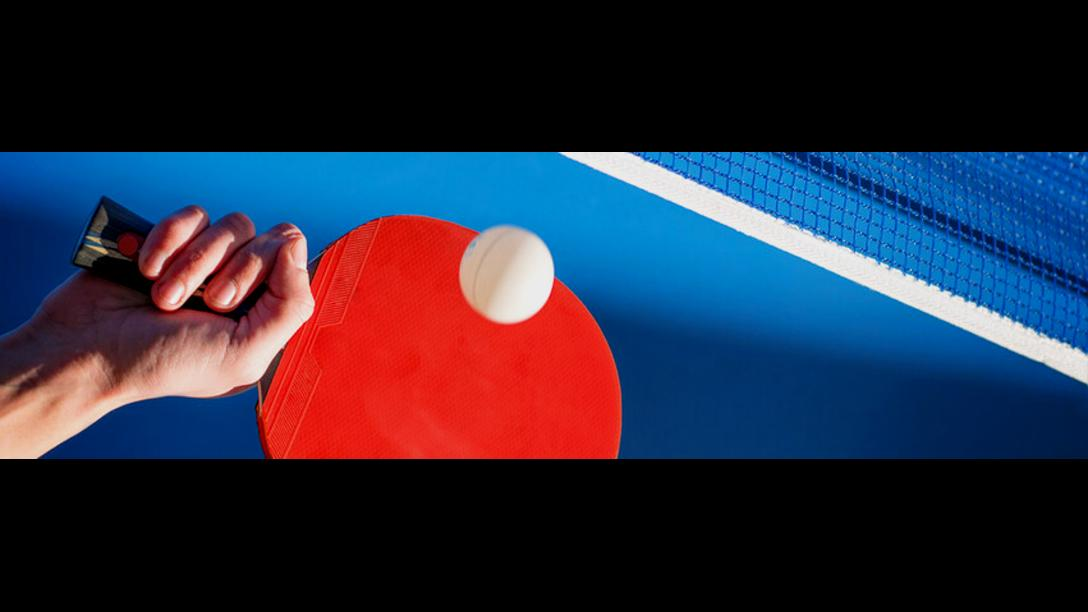Table-Tennis-Ball: (461, 229, 555, 325)
